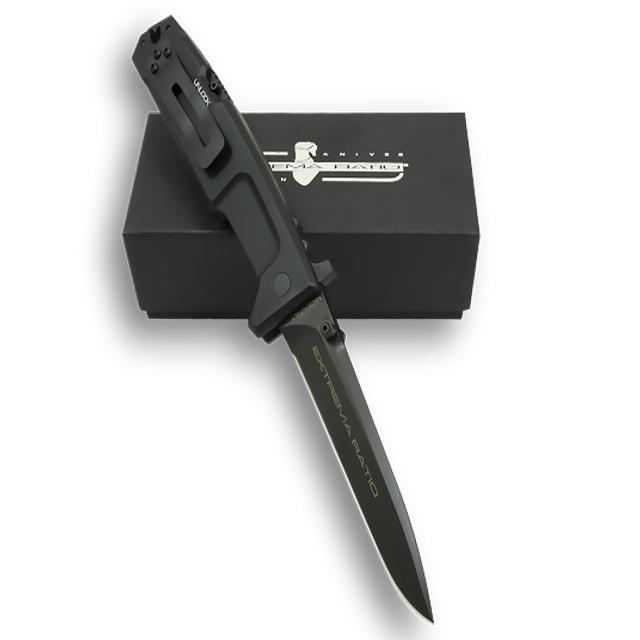knife: (130, 12, 441, 627)
